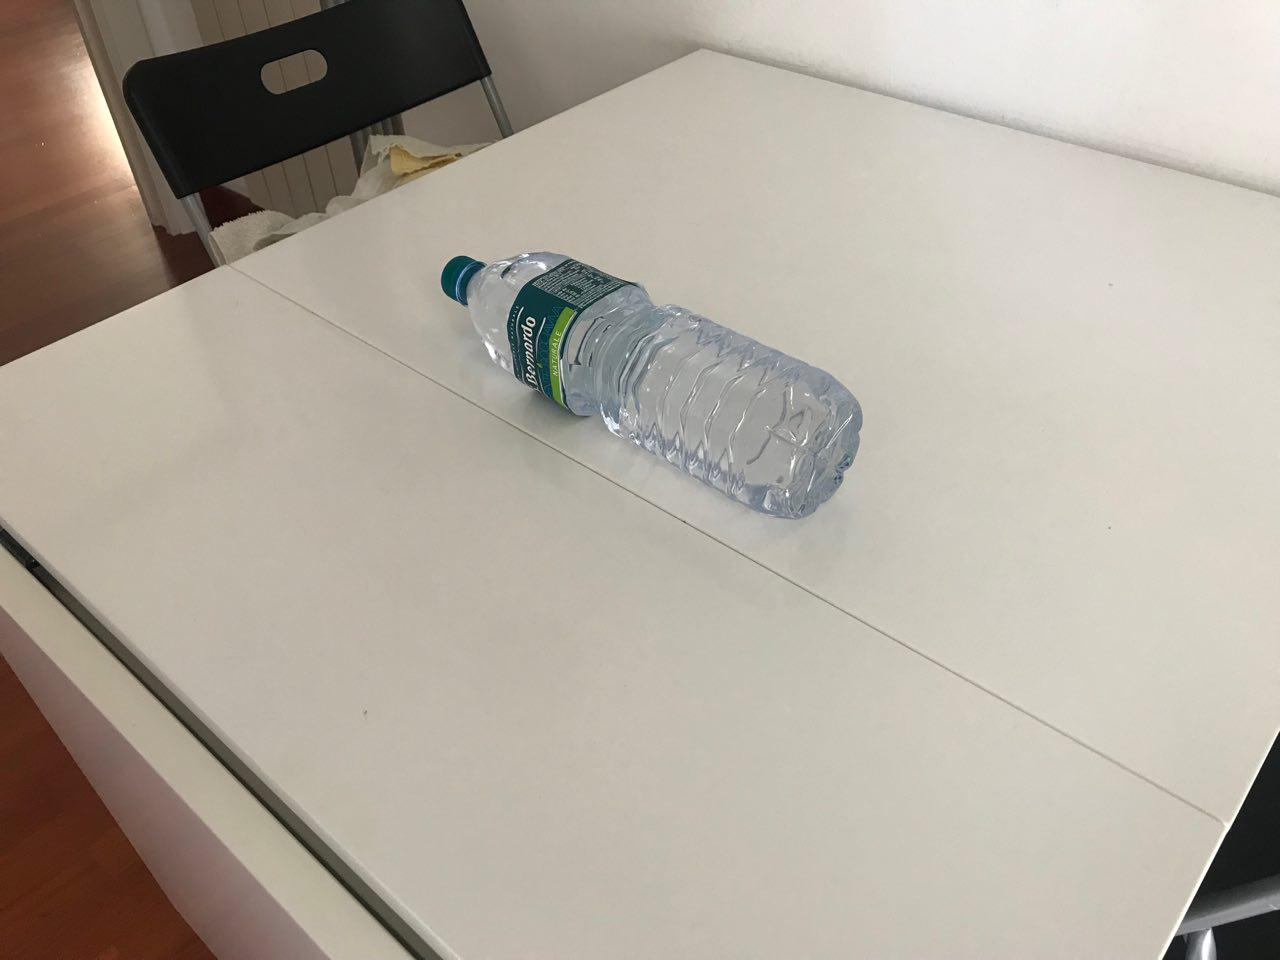san_bernardo: (439, 251, 864, 521)
